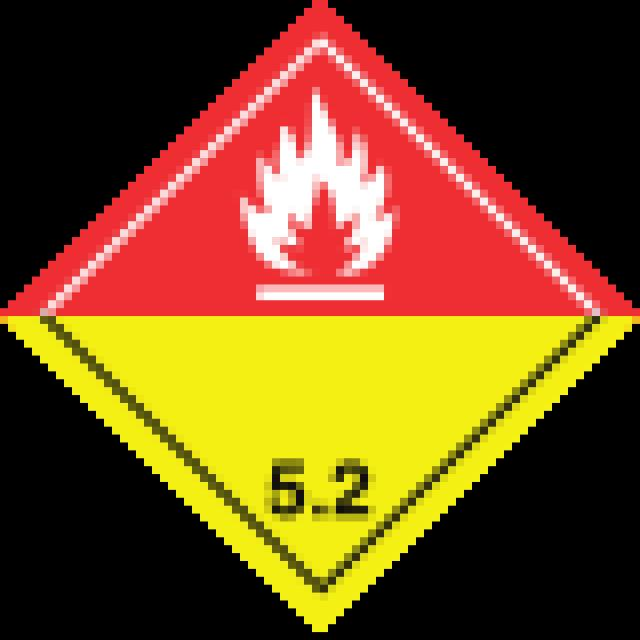Division 5-2: (8, 8, 640, 640)
